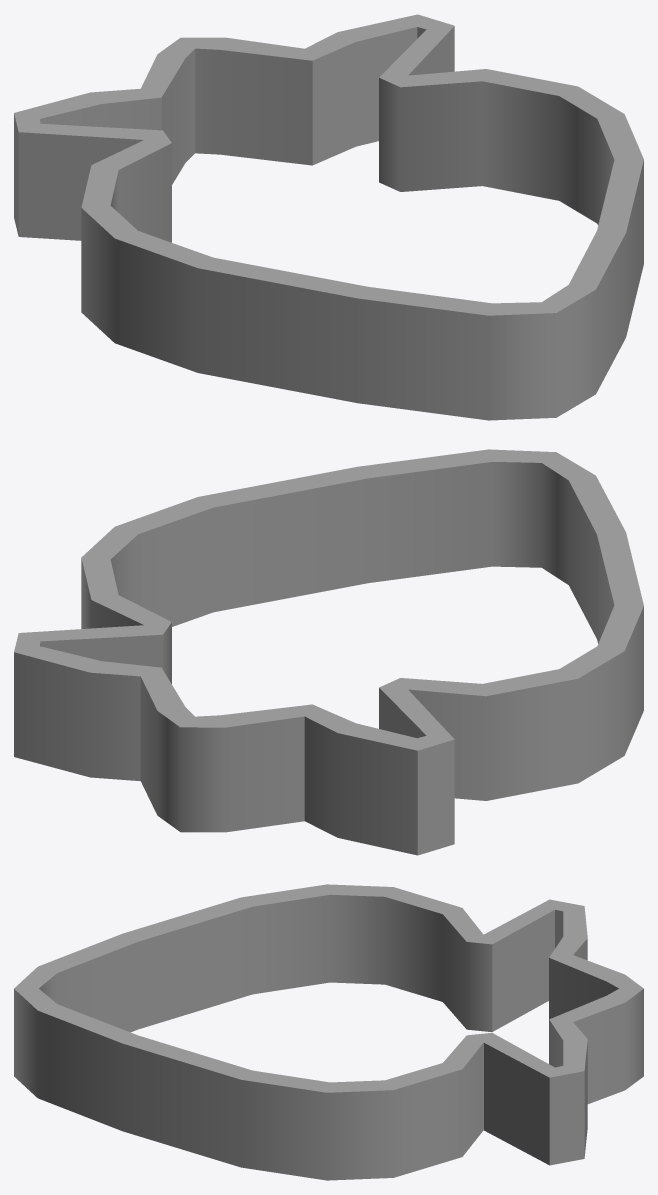
Rendered from BiscuitCutter_Strawberry_01.fbx.
3 renders of one model, top to bottom at view 1: azimuth 30°, elevation 25°; view 2: azimuth 150°, elevation 25°; view 3: azimuth 270°, elevation 25°, orthographic. The views are drawn at different scales.
Parts seen in each view (by area): view 1: BiscuitCutter_Strawberry_01; view 2: BiscuitCutter_Strawberry_01; view 3: BiscuitCutter_Strawberry_01.
Part boxes in pixels (bbox=[...]): BiscuitCutter_Strawberry_01: bbox=[14, 14, 643, 420]; BiscuitCutter_Strawberry_01: bbox=[14, 449, 643, 855]; BiscuitCutter_Strawberry_01: bbox=[14, 884, 643, 1180].
Size of the model in its own units: 0.065 by 0.0128 by 0.083.
